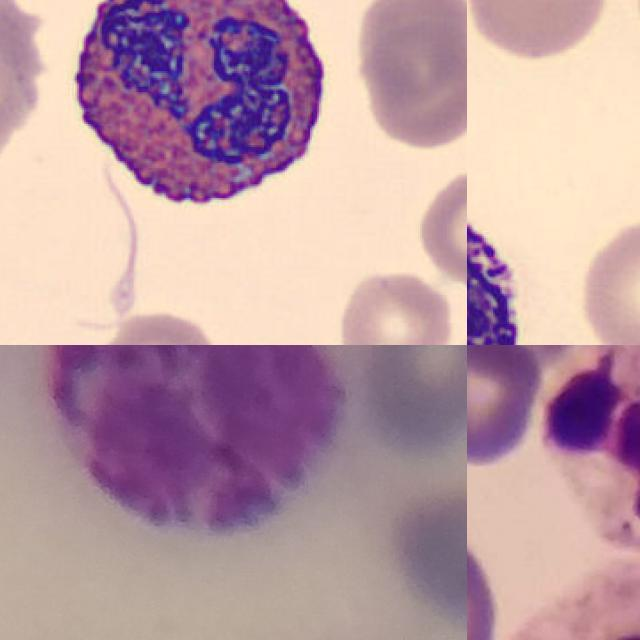Basophil: (41, 345, 352, 538), (467, 174, 537, 345)
Eosinophil: (55, 0, 347, 233)
Neutrophil: (544, 345, 640, 554), (507, 561, 640, 640)
RBC: (351, 0, 467, 115), (333, 265, 457, 345), (467, 0, 614, 65), (573, 211, 640, 345), (413, 163, 467, 288), (87, 305, 226, 345), (0, 25, 32, 182)
